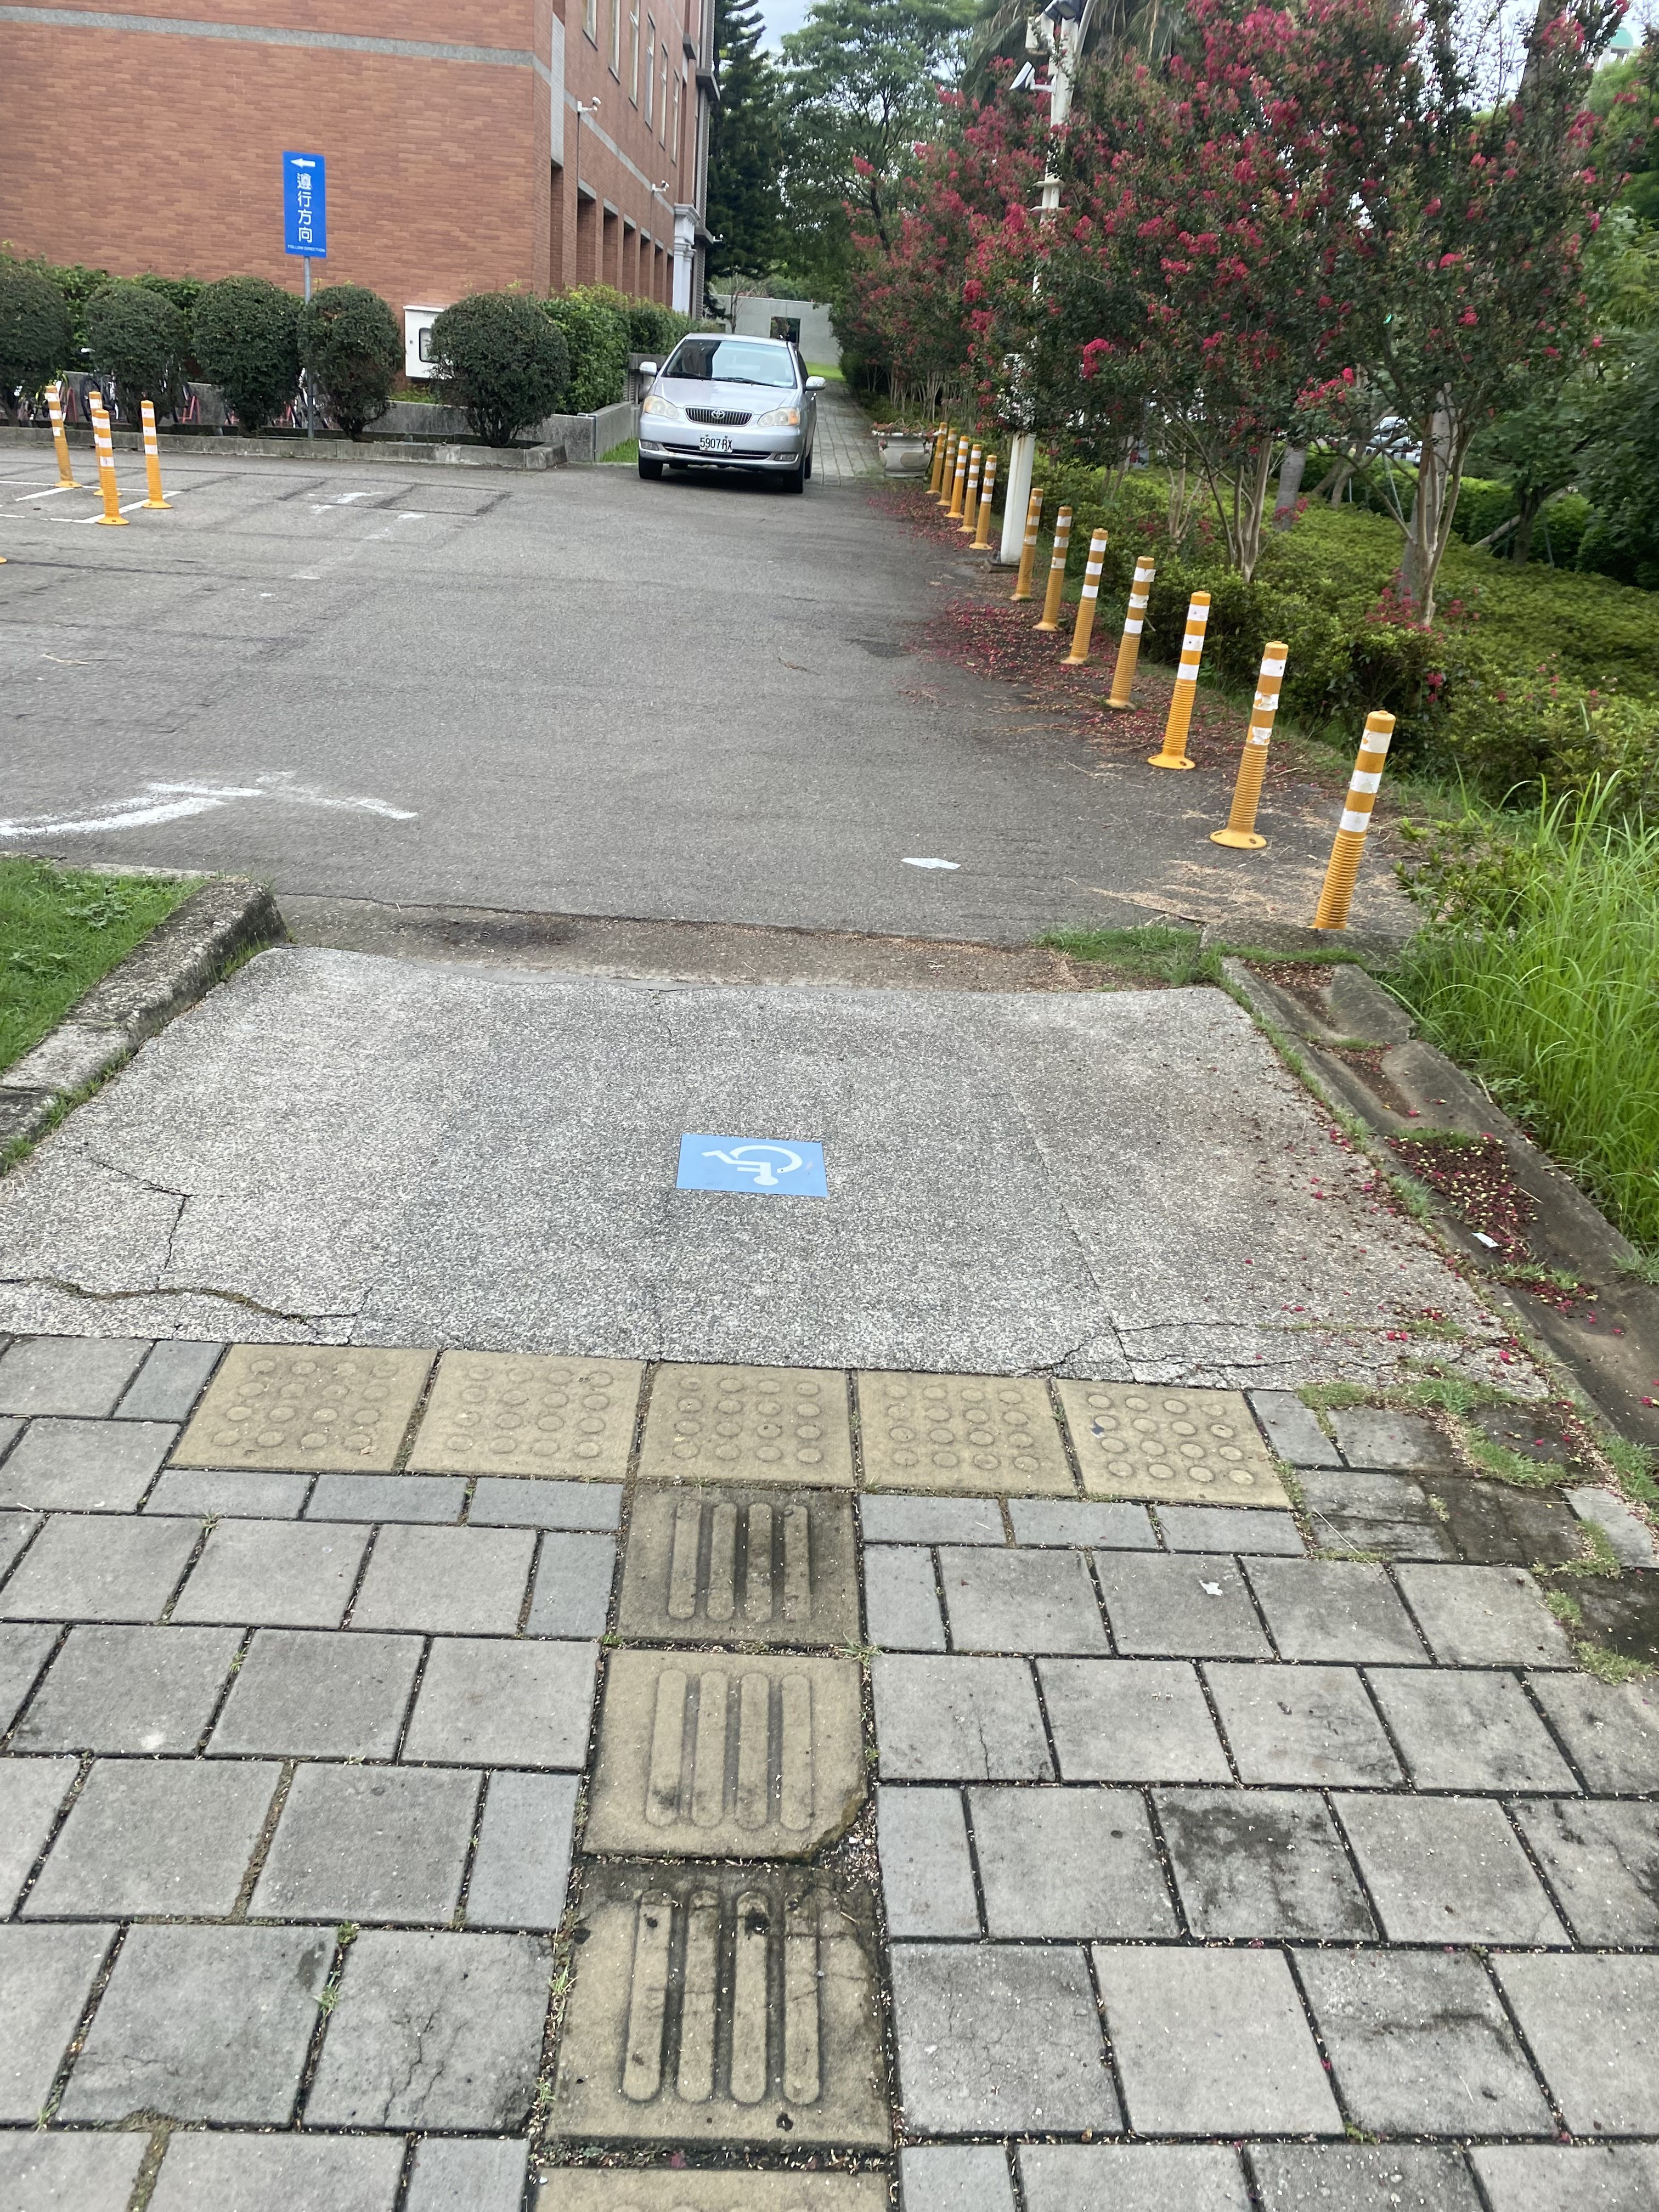0: (0, 892, 1659, 2210)
sidewalk: (532, 333, 917, 1101)
